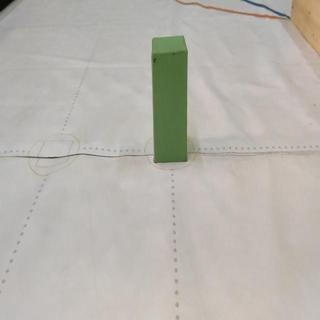greenbox: (150, 37, 189, 164)
